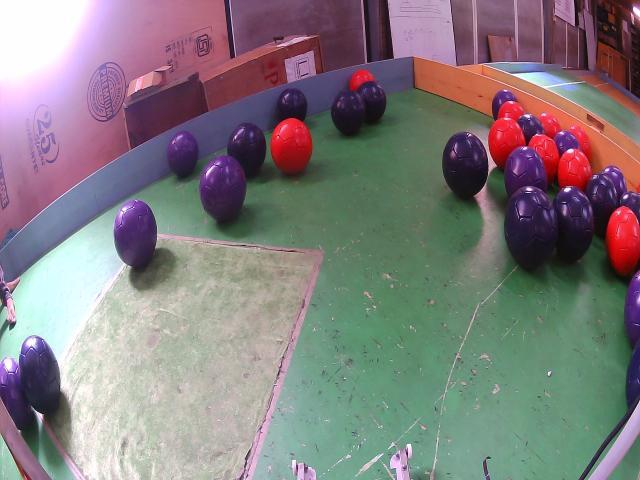jambhalya: (200, 155, 246, 222), (114, 200, 158, 267), (0, 357, 32, 430), (504, 147, 548, 196), (168, 132, 199, 177), (624, 270, 640, 346), (602, 165, 628, 199), (491, 90, 518, 119), (554, 130, 581, 157)
kaalyya: (504, 187, 558, 270), (19, 335, 60, 413), (552, 187, 594, 262), (442, 132, 489, 198), (586, 173, 619, 237), (228, 123, 266, 175), (331, 90, 366, 135), (358, 82, 386, 122), (276, 88, 308, 122), (625, 338, 640, 407), (518, 113, 545, 144), (620, 192, 640, 224)
